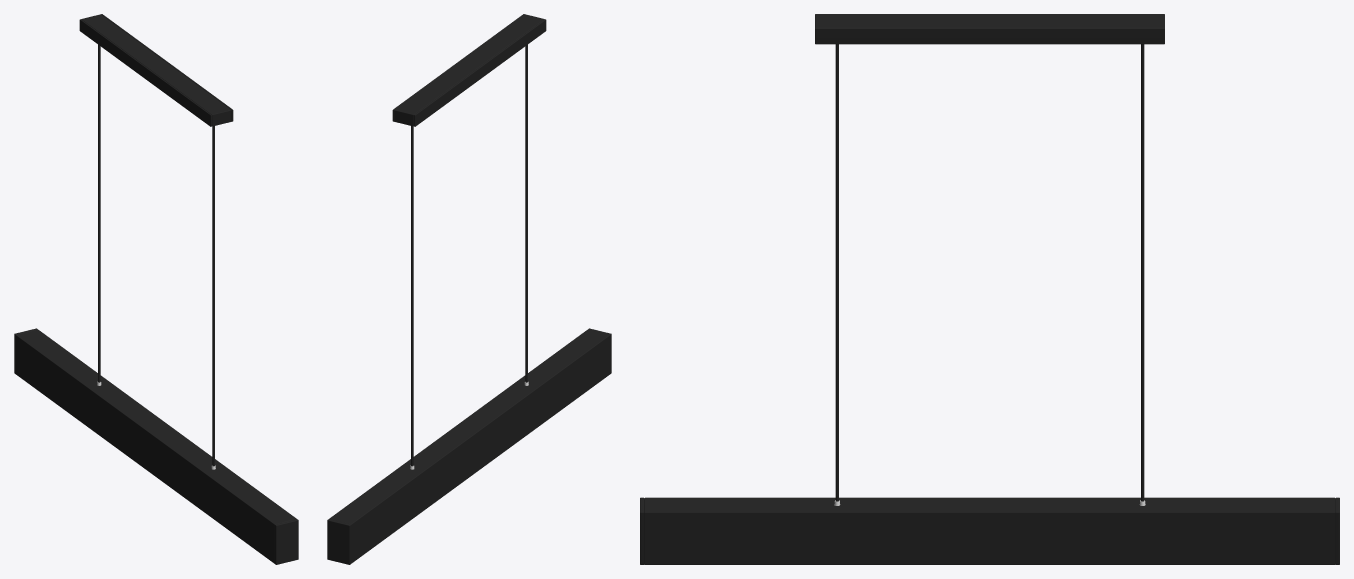
Rendered from lighting_taskLight_suspendedLinearBench_a01.glb.
3 views of the same model, side by side, from view 1: azimuth 30°, elevation 25°; view 2: azimuth 150°, elevation 25°; view 3: azimuth 270°, elevation 25° (orthographic). The views are drawn at different scales.
Parts seen in each view (by area): view 1: lamp_01_mesh_00; view 2: lamp_01_mesh_00; view 3: lamp_01_mesh_00.
Boxes of the visible parts, x1=… form: lamp_01_mesh_00: x1=14, y1=14, x2=298, y2=564; lamp_01_mesh_00: x1=327, y1=14, x2=611, y2=564; lamp_01_mesh_00: x1=640, y1=14, x2=1339, y2=564.
Bounding box in the file's own units: 0.0601 × 1.02 × 1.2.
Materials: 3 (1 with a texture image).
